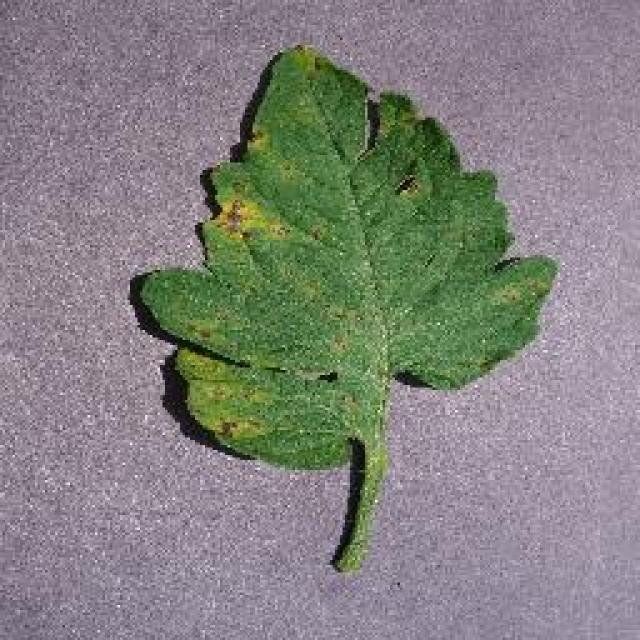Tom_Septoria_leaf_spot: (198, 178, 308, 262), (384, 148, 435, 208)
